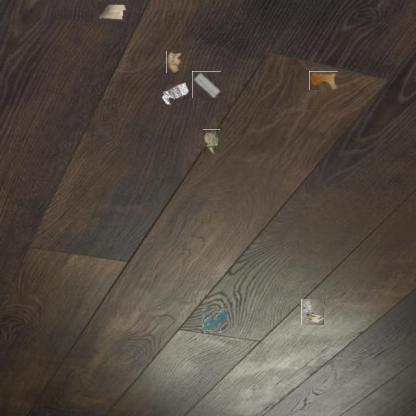dirty: (160, 80, 190, 107), (192, 71, 221, 98), (300, 300, 325, 325), (97, 2, 127, 22), (202, 129, 220, 154), (166, 51, 181, 73)
liquid: (202, 308, 226, 332), (309, 71, 338, 90)
